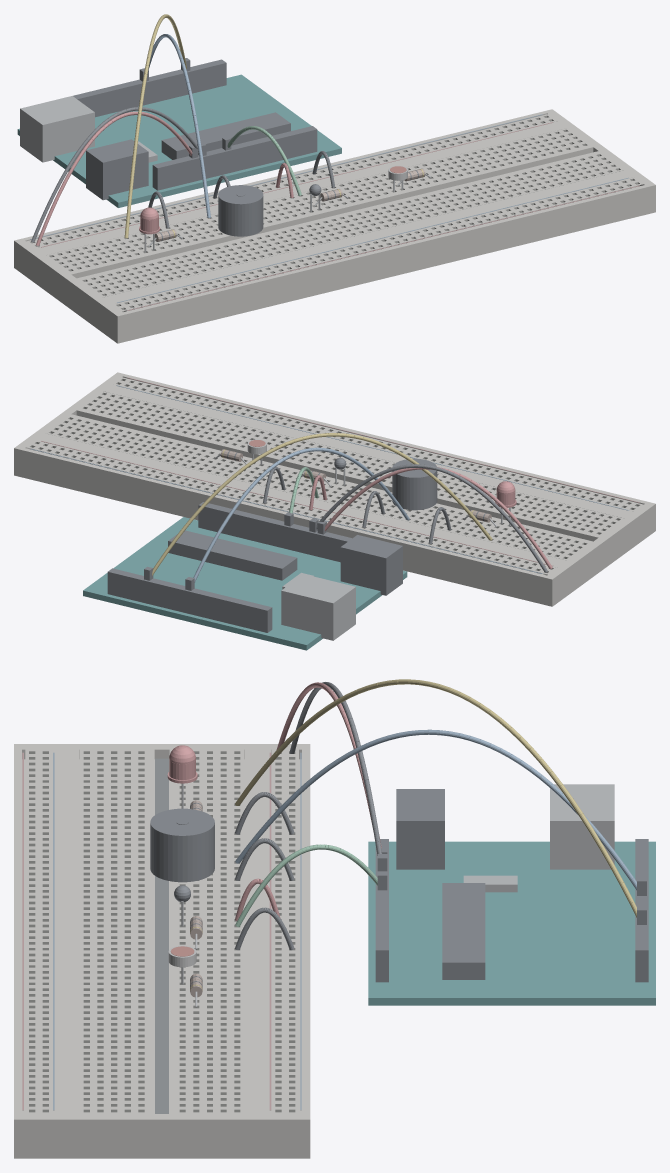
File: step-16.glb
3 renders of one model, top to bottom at view 1: azimuth 30°, elevation 25°; view 2: azimuth 150°, elevation 25°; view 3: azimuth 270°, elevation 25°, orthographic. The views are drawn at different scales.
Visible parts, largest first — view 1: breadboard_1__mesh, arduino_uno__mesh, buzzer_1__mesh, wire_led_sig__mesh, wire_main_gnd__mesh, wire_main_5v__mesh, wire_buzzer_sig__mesh, wire_therm_sig__mesh, led_red__mesh; view 2: breadboard_1__mesh, arduino_uno__mesh, wire_led_sig__mesh, buzzer_1__mesh, wire_buzzer_sig__mesh, wire_main_gnd__mesh, wire_main_5v__mesh, led_red__mesh, wire_therm_sig__mesh; view 3: breadboard_1__mesh, arduino_uno__mesh, buzzer_1__mesh, wire_led_sig__mesh, wire_buzzer_sig__mesh, wire_main_gnd__mesh, wire_therm_sig__mesh, led_red__mesh, wire_main_5v__mesh.
Part boxes in pixels (<box>): breadboard_1__mesh: <box>14,109,655,343</box>; arduino_uno__mesh: <box>17,59,341,207</box>; buzzer_1__mesh: <box>218,185,263,236</box>; wire_led_sig__mesh: <box>124,14,190,238</box>; wire_main_gnd__mesh: <box>31,107,206,242</box>; wire_main_5v__mesh: <box>36,111,198,245</box>; wire_buzzer_sig__mesh: <box>139,34,210,217</box>; wire_therm_sig__mesh: <box>222,126,301,195</box>; led_red__mesh: <box>139,207,160,252</box>; breadboard_1__mesh: <box>14,372,655,606</box>; arduino_uno__mesh: <box>83,502,407,650</box>; wire_led_sig__mesh: <box>144,433,492,580</box>; buzzer_1__mesh: <box>392,458,437,510</box>; wire_buzzer_sig__mesh: <box>185,447,409,590</box>; wire_main_gnd__mesh: <box>309,464,547,572</box>; wire_main_5v__mesh: <box>317,466,552,569</box>; led_red__mesh: <box>495,481,516,525</box>; wire_therm_sig__mesh: <box>284,467,318,526</box>; breadboard_1__mesh: <box>14,744,310,1158</box>; arduino_uno__mesh: <box>368,784,655,1005</box>; buzzer_1__mesh: <box>150,808,214,882</box>; wire_led_sig__mesh: <box>235,679,646,924</box>; wire_buzzer_sig__mesh: <box>235,729,646,895</box>; wire_main_gnd__mesh: <box>289,682,387,871</box>; wire_therm_sig__mesh: <box>235,844,387,927</box>; led_red__mesh: <box>167,745,197,808</box>; wire_main_5v__mesh: <box>276,682,387,853</box>.
Size of the model in its own units: 0.165 by 0.047 by 0.1192.
